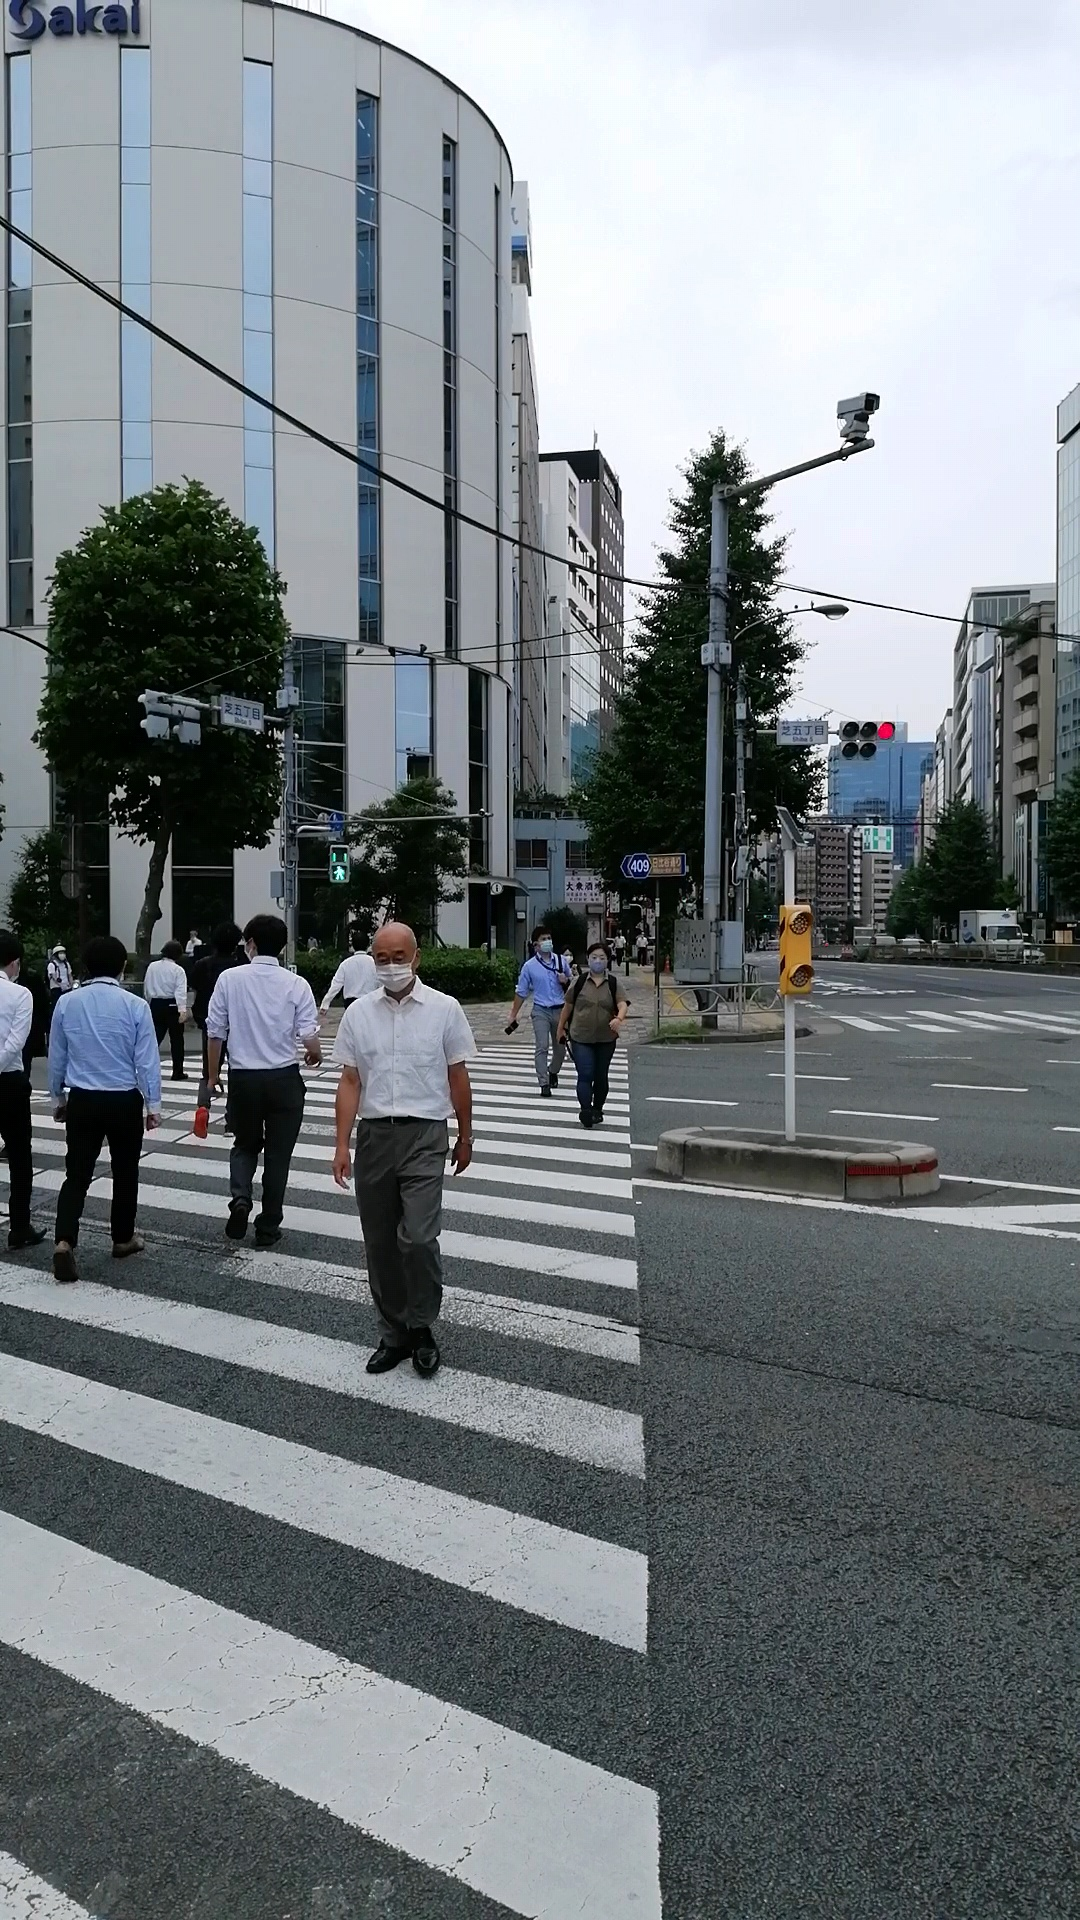green: (328, 843, 351, 884)
